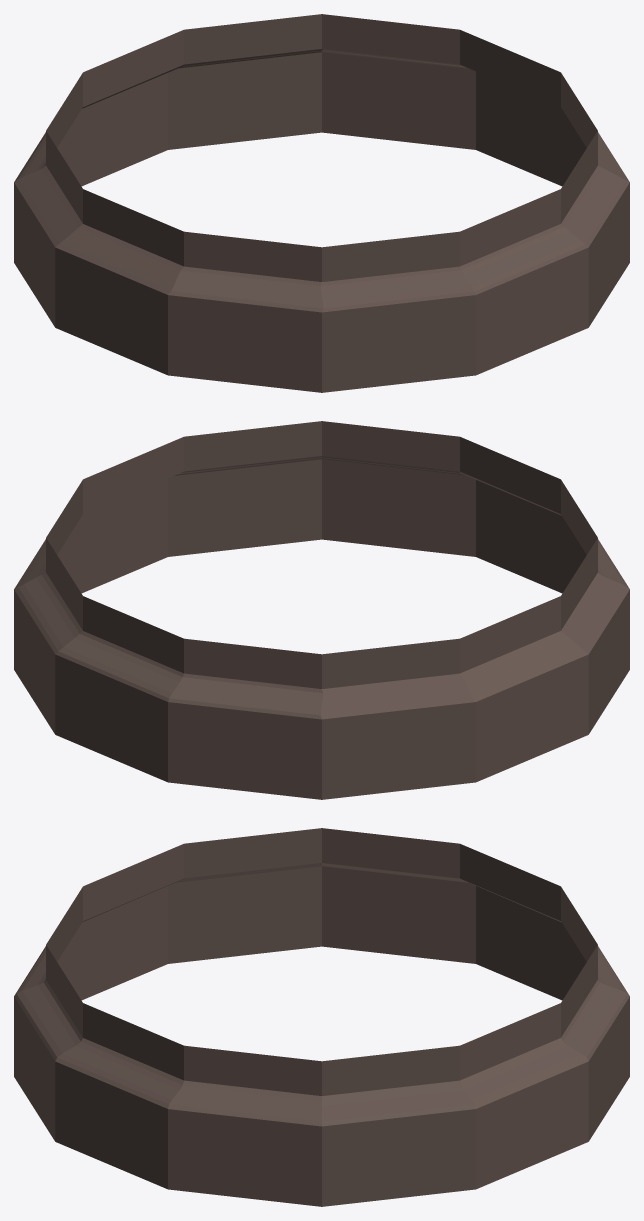
File: original-15.obj
The picture shows the model from 3 angles, top to bottom: view 1: azimuth 30°, elevation 25°; view 2: azimuth 150°, elevation 25°; view 3: azimuth 270°, elevation 25°; orthographic projection.
Visible parts, largest first — view 1: mesh15/mesh15-geometry#mesh15-geometry; view 2: mesh15/mesh15-geometry#mesh15-geometry; view 3: mesh15/mesh15-geometry#mesh15-geometry.
Boxes of the visible parts, bbox=[...] form: mesh15/mesh15-geometry#mesh15-geometry: bbox=[14, 14, 629, 392]; mesh15/mesh15-geometry#mesh15-geometry: bbox=[14, 421, 629, 799]; mesh15/mesh15-geometry#mesh15-geometry: bbox=[14, 828, 629, 1206].
Bounding box in the file's own units: 0.1171 × 0.0277 × 0.1171.
